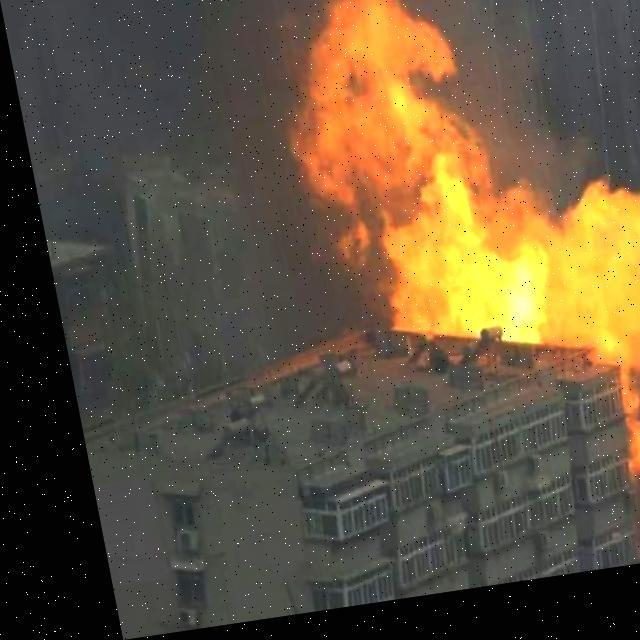Fire: (263, 0, 639, 523)
